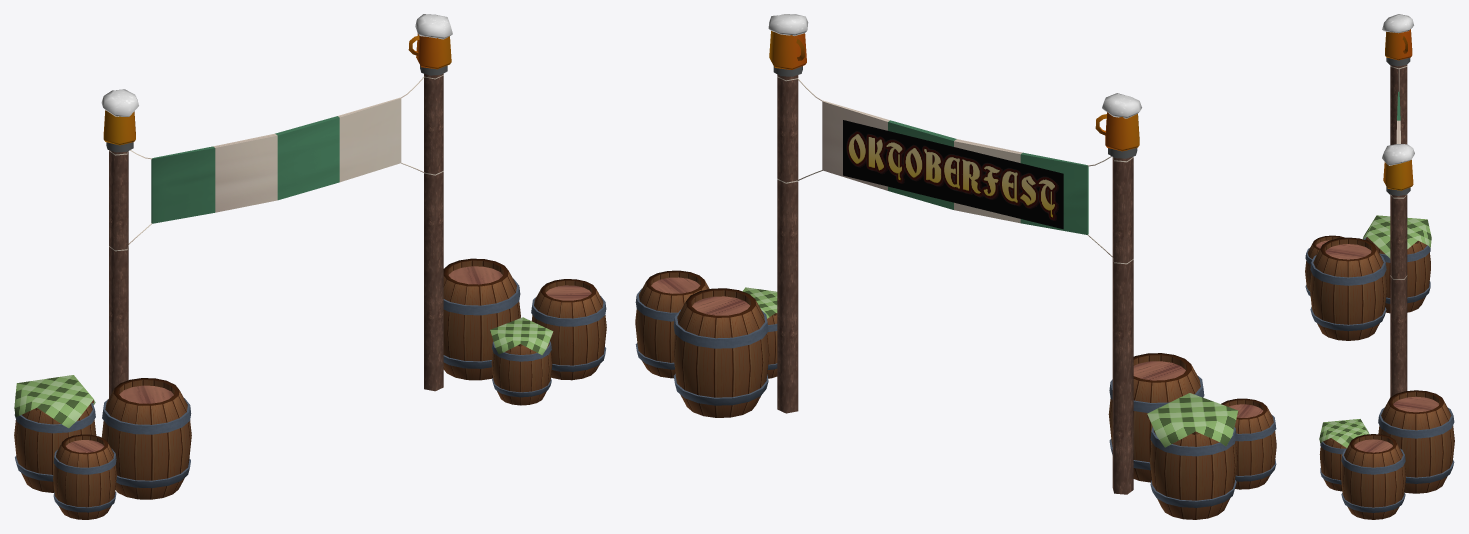
File: SecondaryEntrance_Art.fbx
The picture shows the model from 3 angles, left to right: view 1: azimuth 30°, elevation 25°; view 2: azimuth 150°, elevation 25°; view 3: azimuth 270°, elevation 25°; orthographic projection. The views are drawn at different scales.
Visible parts, largest first — view 1: Oktoberfest_SecondaryEntrance; view 2: Oktoberfest_SecondaryEntrance; view 3: Oktoberfest_SecondaryEntrance.
Boxes of the visible parts, bbox=[...] form: Oktoberfest_SecondaryEntrance: bbox=[14, 14, 606, 519]; Oktoberfest_SecondaryEntrance: bbox=[635, 14, 1276, 519]; Oktoberfest_SecondaryEntrance: bbox=[1305, 14, 1454, 519].
Size of the model in its own units: 686 by 425 by 184.
